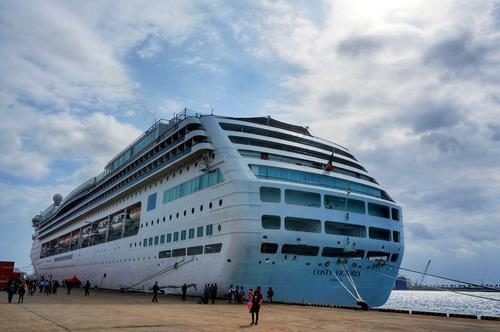Ship: (21, 107, 405, 306)
